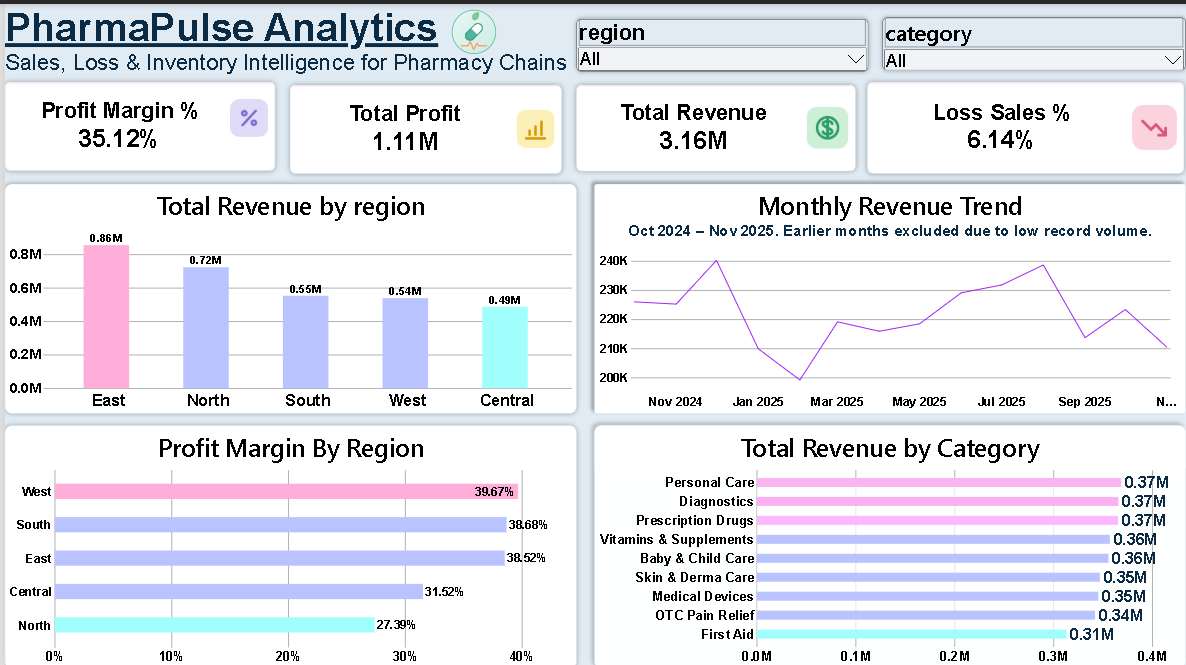

Layout of this report page (visuals, bound fields, positions):
{"tool":"powerbi","page":{"name":"Excutive Overview","canvas":[3840,2160],"ordinal":0},"visuals":[{"type":"cardVisual","fields":{"Data":["Sales_clean.Total Revenue"]},"box":[1858.4,263.9,907.6,280.1],"z":0},{"type":"cardVisual","fields":{"Data":["Sales_clean.Total Profit"]},"box":[927.1,263.5,883.2,287.9],"z":1000},{"type":"cardVisual","fields":{"Data":["Sales_clean.Profit Margin %"]},"box":[0,255.8,878.3,287.9],"z":2000},{"type":"cardVisual","fields":{"Data":["Sales_clean.Loss Sales %"]},"box":[2805.8,253.7,1029.6,297.7],"z":3000},{"type":"barChart","title":"Total Revenue by Category","fields":{"Category":["categories (2).category_name"],"Y":["Sales_clean.Total Revenue"]},"box":[1917.7,1371.2,1922.6,790.5],"z":4000},{"type":"clusteredColumnChart","fields":{"Category":["stores (2).region"],"Y":["Sales_clean.Total Revenue"]},"box":[0,585.6,1859.1,746.6],"z":5000},{"type":"lineChart","title":"Monthly Revenue Trend","fields":{"Category":["Sales_clean.sale_date.Variation.Date Hierarchy.Year","Sales_clean.sale_date.Variation.Date Hierarchy.Month"],"Y":["Sales_clean.Total Revenue"]},"box":[1917.7,585.6,1922.6,746.6],"z":6000},{"type":"barChart","title":"Profit  Margin By Region","fields":{"Category":["stores (2).region"],"Y":["Sales_clean.Profit Margin %"]},"box":[0,1371.2,1859.1,790.5],"z":7000},{"type":"slicer","fields":{"Values":["categories (2).category_name"]},"box":[2854.9,45.8,985.7,170.8],"z":8000},{"type":"textbox","box":[0,0,1920,265],"z":9000},{"type":"slicer","fields":{"Values":["stores (2).region"]},"box":[1859.6,48,948.5,170.5],"z":10000},{"type":"image","box":[1369.4,0,309.1,181.2],"z":11000}]}

Visuals, with their boxes in screenshot pixels (x1, y1, x2, y2), scaled from the page's 3840x2160 canvas onto the 1186x665 screenshot:
cardVisual - Sales_clean.Total Revenue: {"left": 574, "top": 81, "right": 854, "bottom": 167}
cardVisual - Sales_clean.Total Profit: {"left": 286, "top": 81, "right": 559, "bottom": 170}
cardVisual - Sales_clean.Profit Margin %: {"left": 0, "top": 79, "right": 271, "bottom": 167}
cardVisual - Sales_clean.Loss Sales %: {"left": 867, "top": 78, "right": 1185, "bottom": 170}
"Total Revenue by Category" barChart: {"left": 592, "top": 422, "right": 1185, "bottom": 664}
clusteredColumnChart - stores (2).region x Sales_clean.Total Revenue: {"left": 0, "top": 180, "right": 574, "bottom": 410}
"Monthly Revenue Trend" lineChart: {"left": 592, "top": 180, "right": 1185, "bottom": 410}
"Profit  Margin By Region" barChart: {"left": 0, "top": 422, "right": 574, "bottom": 664}
slicer - categories (2).category_name: {"left": 882, "top": 14, "right": 1185, "bottom": 67}
textbox: {"left": 0, "top": 0, "right": 593, "bottom": 82}
slicer - stores (2).region: {"left": 574, "top": 15, "right": 867, "bottom": 67}
image: {"left": 423, "top": 0, "right": 518, "bottom": 56}
